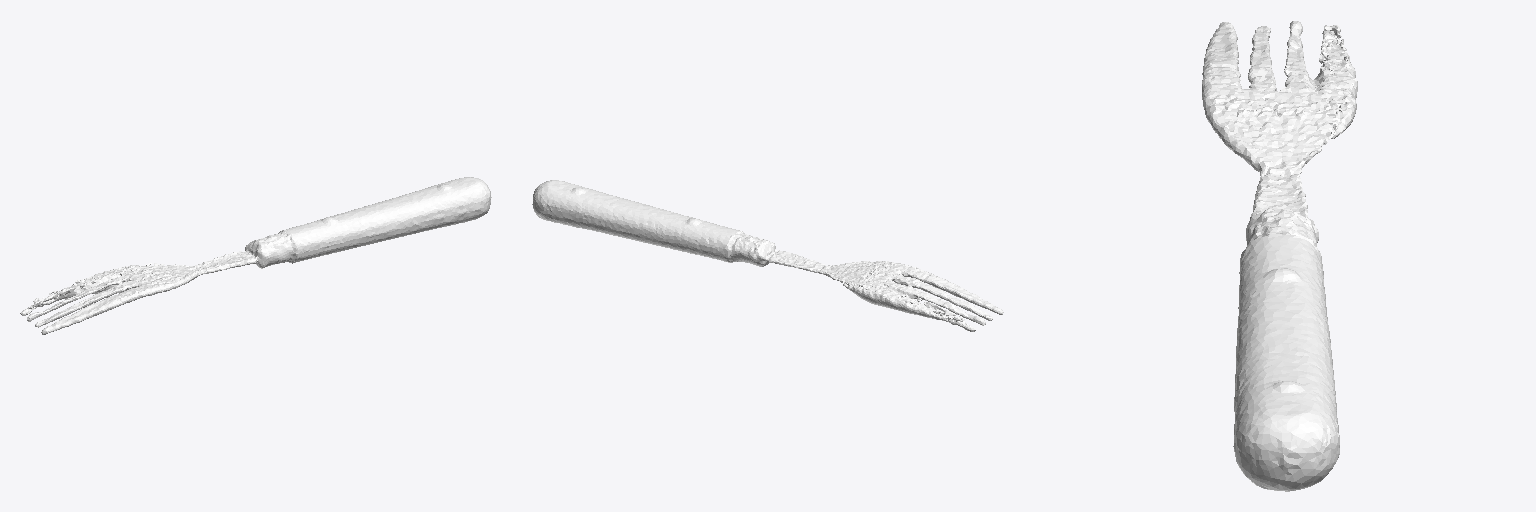
URDF robot description (030_fork_0):
<?xml version='1.0' encoding='utf-8'?>
<robot name="030_fork_0">
        <link name="link_0">
            <visual>
                <origin xyz="0.0 0.0 0.0" rpy="0.08726646259971647 0.0 0.0" />
                <geometry>
                    <mesh filename="textured_objs/textured.obj" scale="1 1 1.0" />
                </geometry>
                <material name="white">
                    <color rgba="1 1 1 1" />
                </material>
            </visual>
            <collision>
                <origin xyz="0.0 0.0 0.0" rpy="0.08726646259971647 0.0 0.0" />
                <geometry>
                    <mesh filename="textured_objs/textured.obj" scale="1 1 1.0" />
                </geometry>
            </collision>
            <inertial>
                <mass value="0.1" />
                <inertia ixx="0.0001" ixy="0.0" ixz="0.0" iyy="0.0001" iyz="0.0" izz="0.0001" />
            </inertial>
        </link>
    </robot>

--- Render facts (derived) ---
Views: 3 orthographic renders of the robot side by side, from view 1: azimuth 30°, elevation 25°; view 2: azimuth 150°, elevation 25°; view 3: azimuth 270°, elevation 25°.
Robot: 030_fork_0 — 1 links, 0 joints (none); root link link_0; default pose: every joint at zero.
Visible links, largest first — view 1: link_0; view 2: link_0; view 3: link_0.
Boxes of the visible links, left/top/right/bottom form: link_0: left=20, top=177, right=491, bottom=334; link_0: left=532, top=180, right=1003, bottom=331; link_0: left=1202, top=21, right=1357, bottom=491.
Bounding box of the posed robot: 0.1976 × 0.0274 × 0.0154 m (x, y, z).
Meshes: 1 distinct files referenced, 1 mesh visuals loaded (1 OBJ).